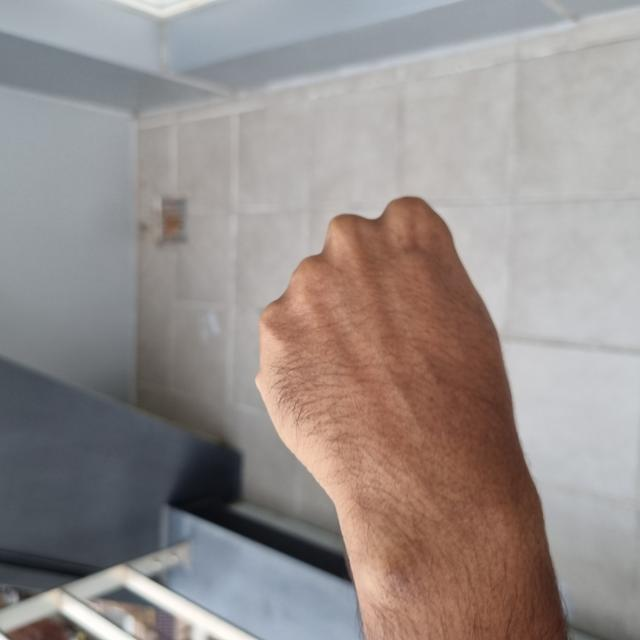Rock: (104, 257, 440, 506)
